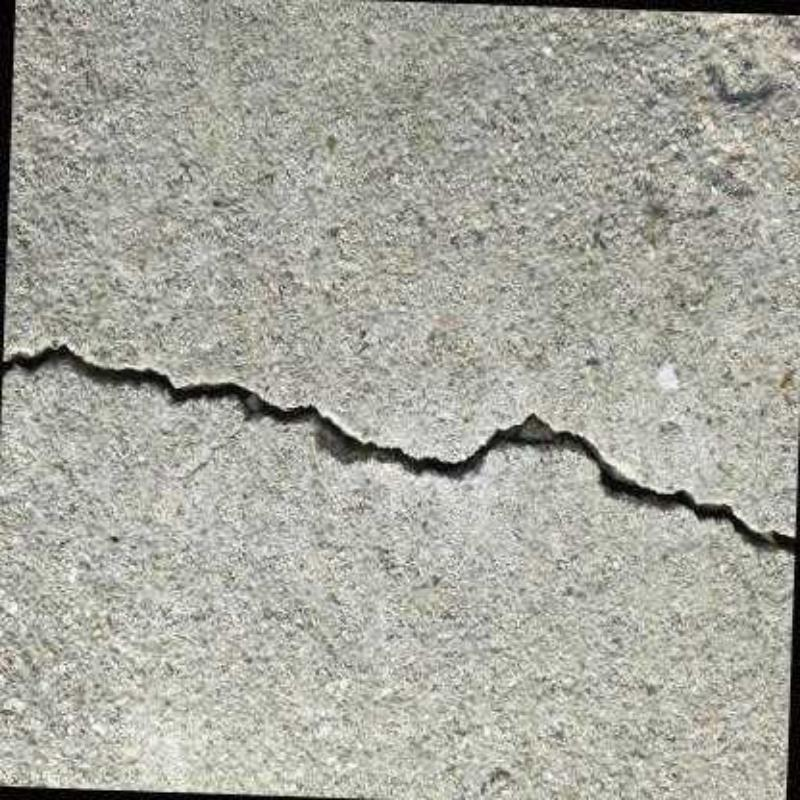pothole: (0, 334, 796, 569)
